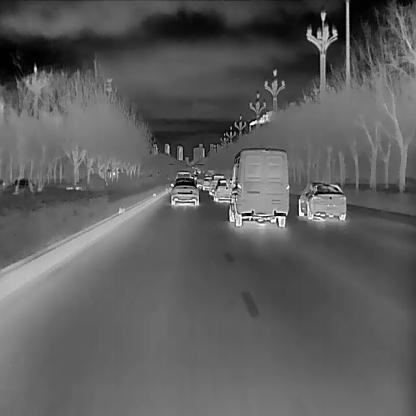car: (228, 147, 289, 227), (297, 181, 346, 221), (169, 178, 198, 206), (214, 177, 237, 202), (207, 173, 223, 193), (173, 171, 193, 186), (202, 176, 211, 190)
